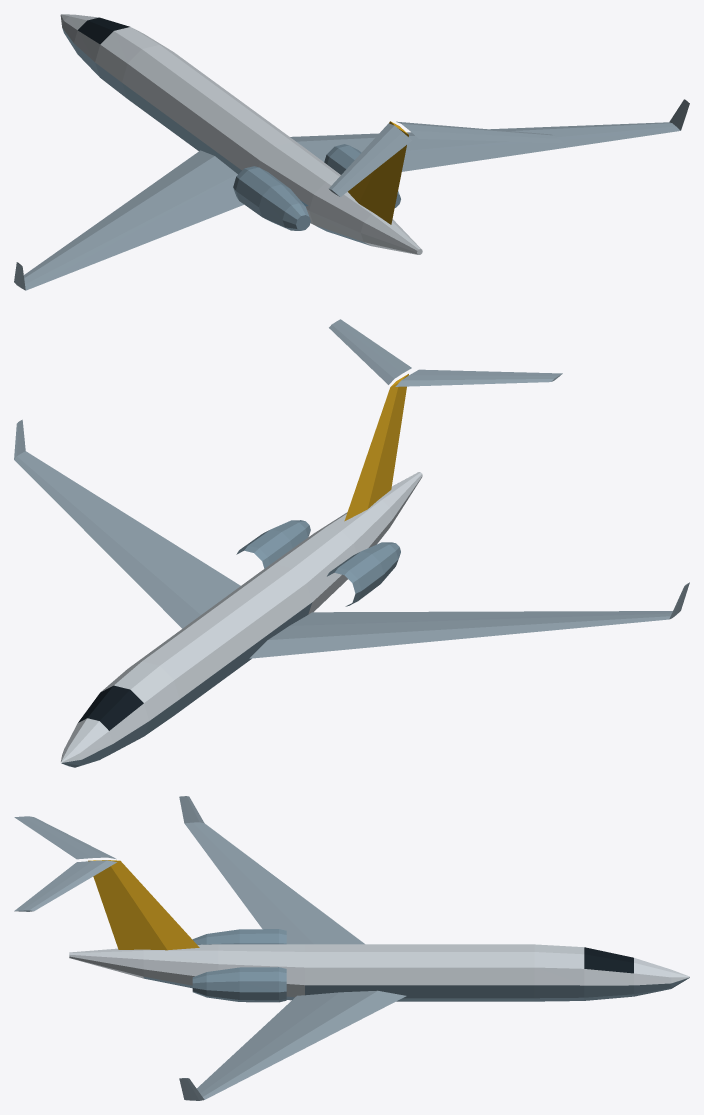
File: GLF6.glb
The picture shows the model from 3 angles, top to bottom: view 1: azimuth 30°, elevation 25°; view 2: azimuth 150°, elevation 25°; view 3: azimuth 270°, elevation 25°; orthographic projection. The views are drawn at different scales.
Visible parts, largest first — view 1: lod0; view 2: lod0; view 3: lod0.
Part boxes in pixels (x1=…): lod0: x1=14, y1=14, x2=689, y2=290; lod0: x1=14, y1=319, x2=689, y2=767; lod0: x1=14, y1=796, x2=689, y2=1100.
Size of what is drawn, in the model's own units: 0.9864 by 0.2267 by 1.
